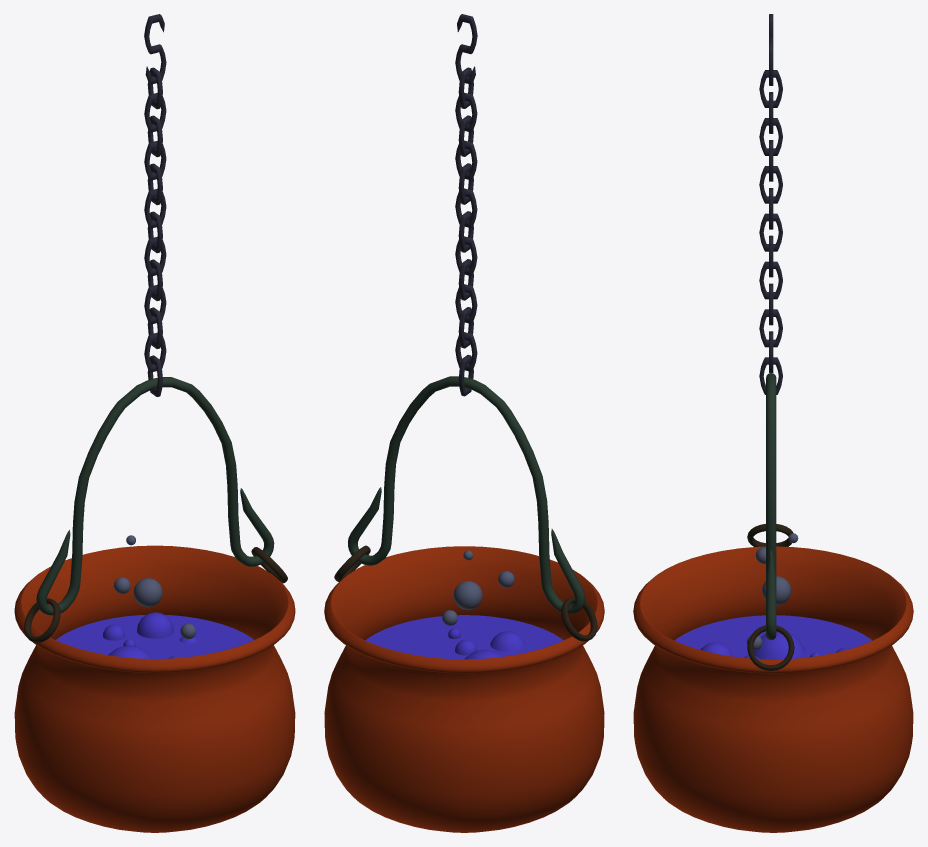
Rendered from pot_LP.FBX.
3 renders of one model, left to right at view 1: azimuth 30°, elevation 25°; view 2: azimuth 150°, elevation 25°; view 3: azimuth 270°, elevation 25°, orthographic.
Visible parts, largest first — view 1: Pot_LP; view 2: Pot_LP; view 3: Pot_LP.
Part boxes in pixels (<box>): Pot_LP: <box>14,14,295,832</box>; Pot_LP: <box>324,14,604,832</box>; Pot_LP: <box>633,14,913,832</box>.
Size of the model in its own units: 63.12 by 188 by 60.35.
